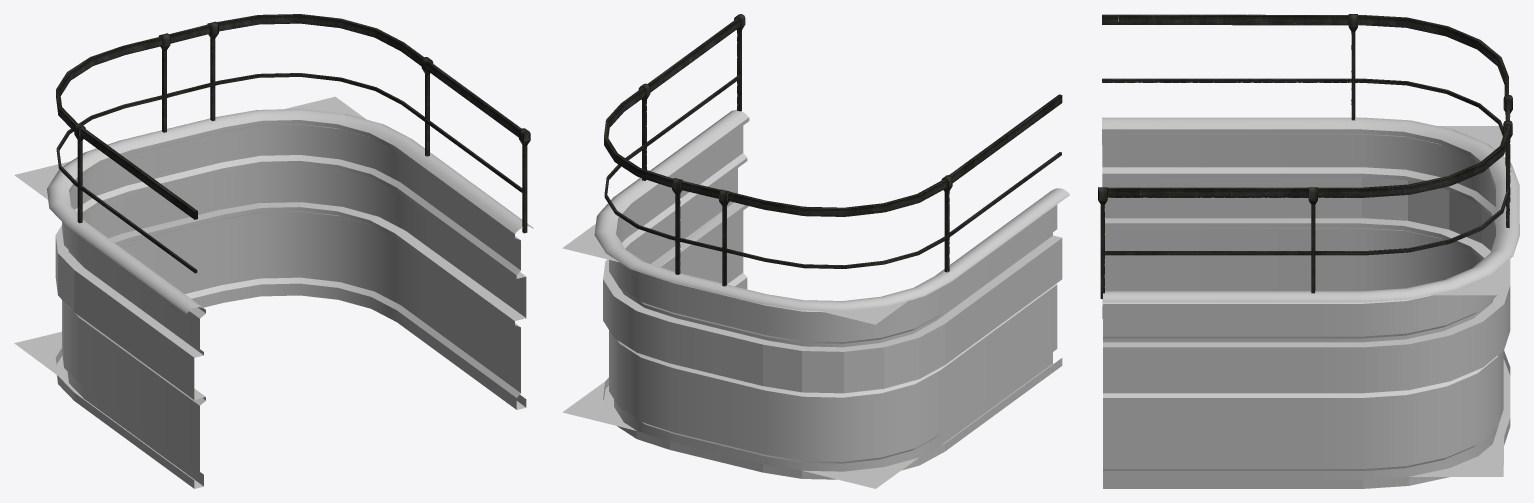
Rendered from engineroom_balcony_180_inner.DAE.
3 views of the same model, side by side, from view 1: azimuth 30°, elevation 25°; view 2: azimuth 150°, elevation 25°; view 3: azimuth 270°, elevation 25° (orthographic). The views are drawn at different scales.
Parts seen in each view (by area): view 1: balcony_corner_inner_metal001, balcony_corner_inner_bricks001, balcony_corner_inner_rail001, balcony_corner_inner_floor001; view 2: balcony_corner_inner_metal001, balcony_corner_inner_bricks001, balcony_corner_inner_rail001, balcony_corner_inner_floor001; view 3: balcony_corner_inner_metal001, balcony_corner_inner_bricks001, balcony_corner_inner_rail001, balcony_corner_inner_floor001.
Part boxes in pixels (<box>): balcony_corner_inner_metal001: <box>47,109,533,488</box>; balcony_corner_inner_bricks001: <box>55,164,526,399</box>; balcony_corner_inner_rail001: <box>56,14,530,273</box>; balcony_corner_inner_floor001: <box>14,96,366,375</box>; balcony_corner_inner_metal001: <box>594,109,1069,479</box>; balcony_corner_inner_bricks001: <box>603,168,1062,393</box>; balcony_corner_inner_rail001: <box>604,14,1062,286</box>; balcony_corner_inner_floor001: <box>562,224,918,488</box>; balcony_corner_inner_metal001: <box>1102,117,1519,488</box>; balcony_corner_inner_bricks001: <box>1102,177,1510,393</box>; balcony_corner_inner_rail001: <box>1098,14,1512,298</box>; balcony_corner_inner_floor001: <box>1409,126,1504,476</box>.
Size of the model in its own units: 4.32 by 3.31 by 4.21.
